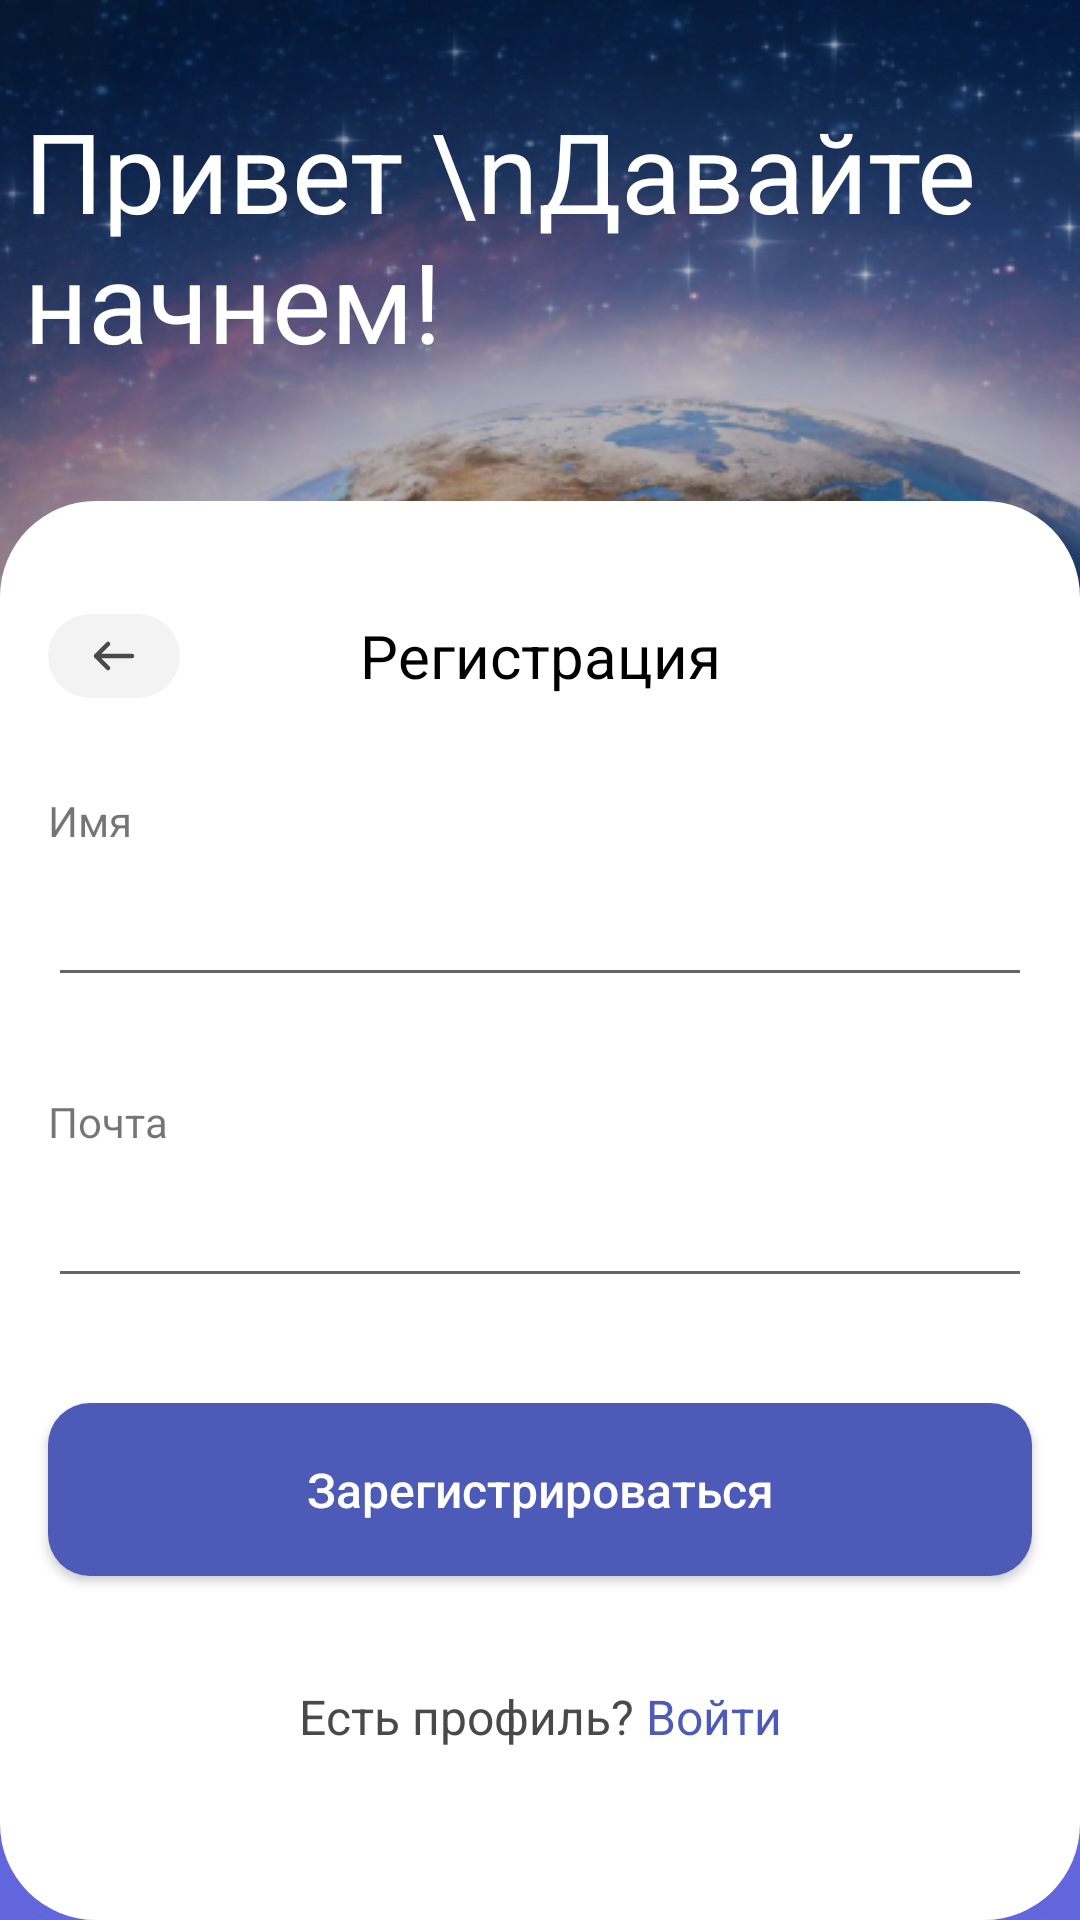

Where to tap for icons on this 1080px x 1920px app screen, as (x,y):
arrow left: (114,656)
